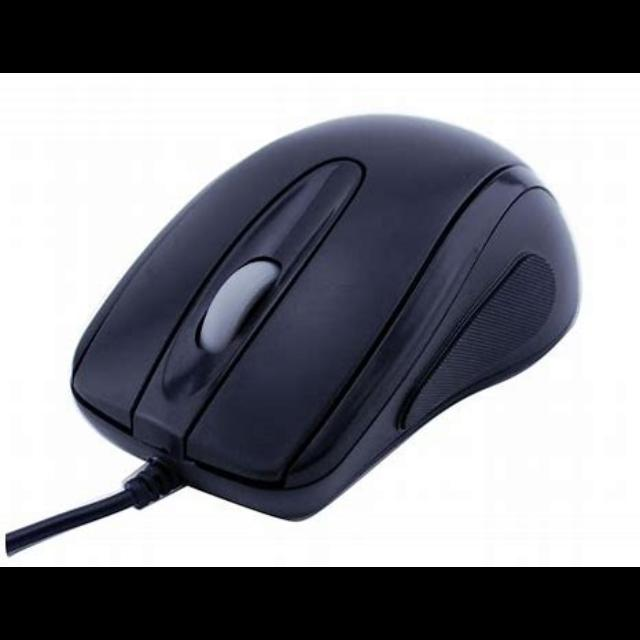Computer-Mouse: (7, 114, 585, 555)
